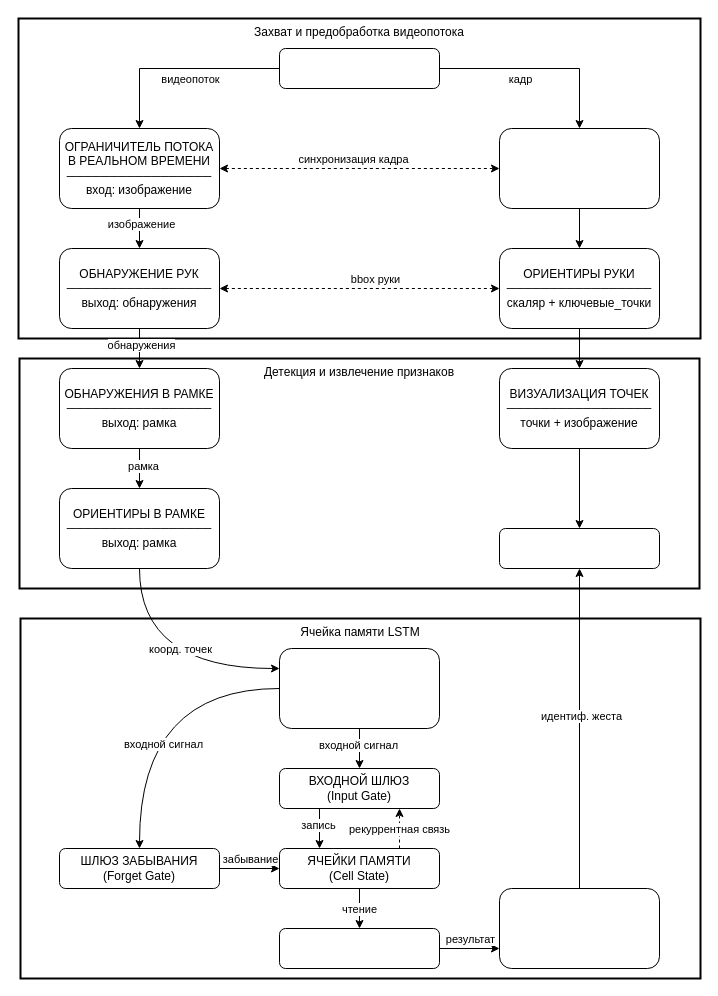
This 718x996 diagram has some shape labels left out. Here are the shapes that lost their labels. From the top down, the centre of each, then its label:
(359,68): Камера
(579,168): ОБРЕЗКА ИЗОБРАЖЕНИЯ ───────────────── рамка + изображение
(579,548): Экран
(359,688): ВХОД МОДЕЛИ РАСПОЗНАВАНИЯ ЖЕСТОВ ───────────────── вектор признаков: 1662
(359,948): ВЫХОДНОЙ ШЛЮЗ (Output Gate)
(579,928): ВЫХОД МОДЕЛИ РАСПОЗНАВАНИЯ ЖЕСТОВ ───────────────── идентиф. жеста
